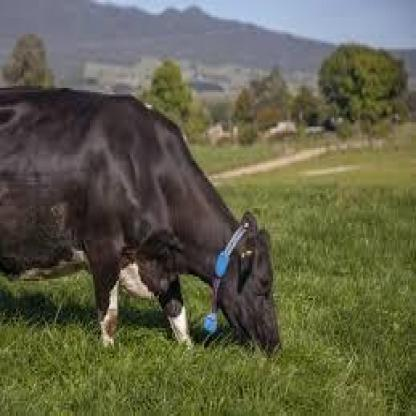cow: (0, 86, 279, 359)
